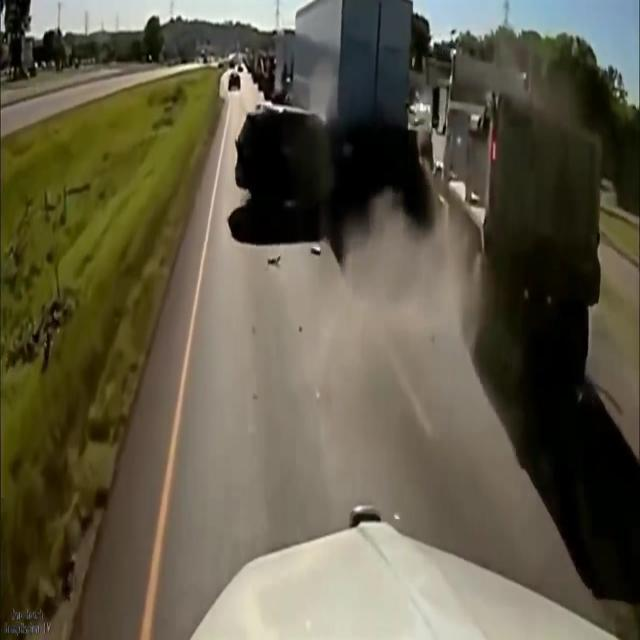accident: (237, 87, 384, 245)
